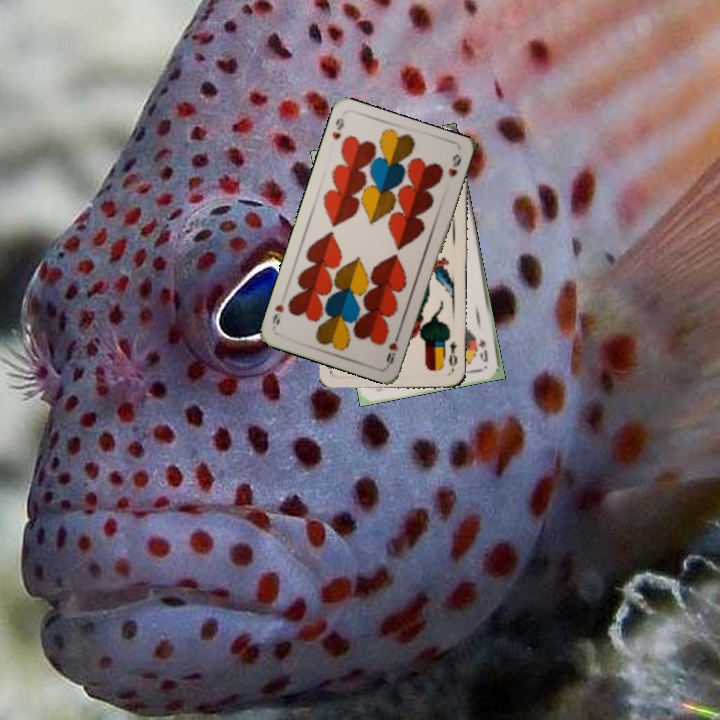EO: (444, 338, 460, 373)
H9: (382, 328, 402, 368), (328, 114, 347, 142)
SO: (474, 335, 491, 365)
